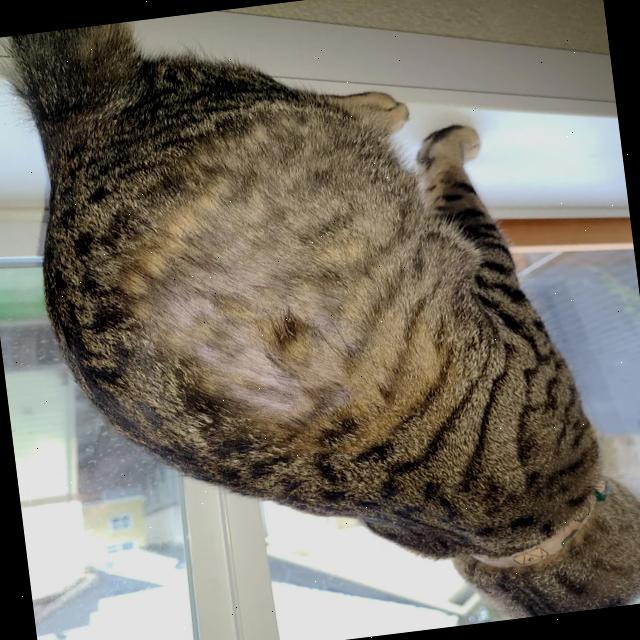cat-hairloss: (167, 218, 331, 400)
